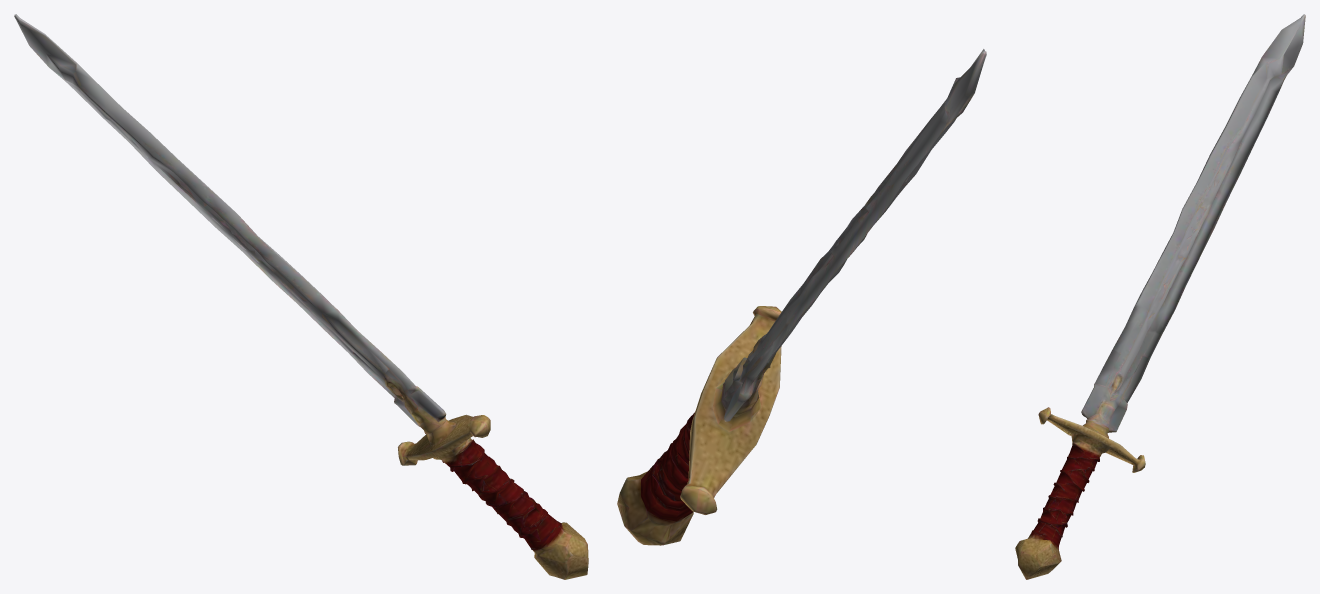
The model's file is blade.glb.
3 views of the same model, side by side, from view 1: azimuth 30°, elevation 25°; view 2: azimuth 150°, elevation 25°; view 3: azimuth 270°, elevation 25° (orthographic). The views are drawn at different scales.
Visible parts, largest first — view 1: base_model_path; view 2: base_model_path; view 3: base_model_path.
Part boxes in pixels (x1,y1,x2,y2): base_model_path: (14,14,588,579); base_model_path: (617,49,986,545); base_model_path: (1015,14,1305,579).
Size of the model in its own units: 0.7965 by 1 by 0.6361.
Materials: 1 (1 with a texture image).
